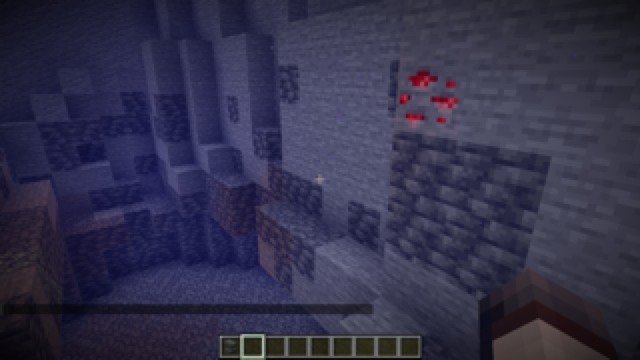redstone: (396, 63, 465, 132)
